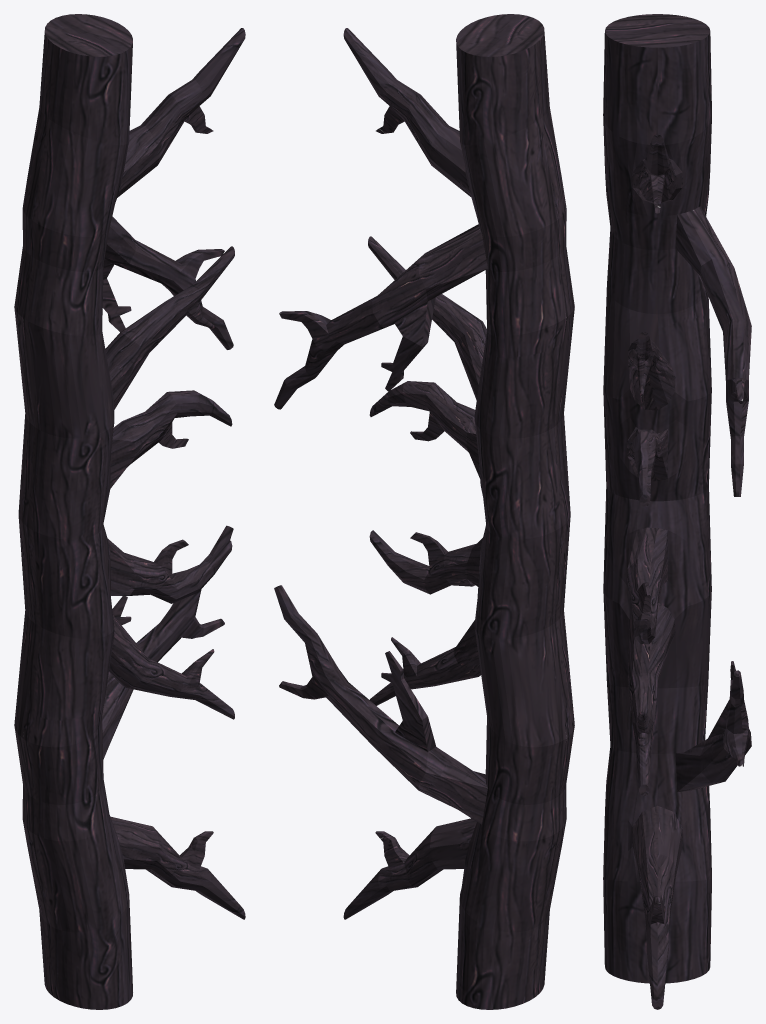
Rendered from DeathWall.fbx.
3 views of the same model, side by side, from view 1: azimuth 30°, elevation 25°; view 2: azimuth 150°, elevation 25°; view 3: azimuth 270°, elevation 25° (orthographic).
Parts seen in each view (by area): view 1: DeathWall; view 2: DeathWall; view 3: DeathWall.
Boxes of the visible parts, x1,y1,x2,y2 form: DeathWall: [14, 14, 245, 1009]; DeathWall: [274, 14, 574, 1009]; DeathWall: [603, 14, 751, 1009].
Bounding box in the file's own units: 93.88 × 341 × 49.05.
